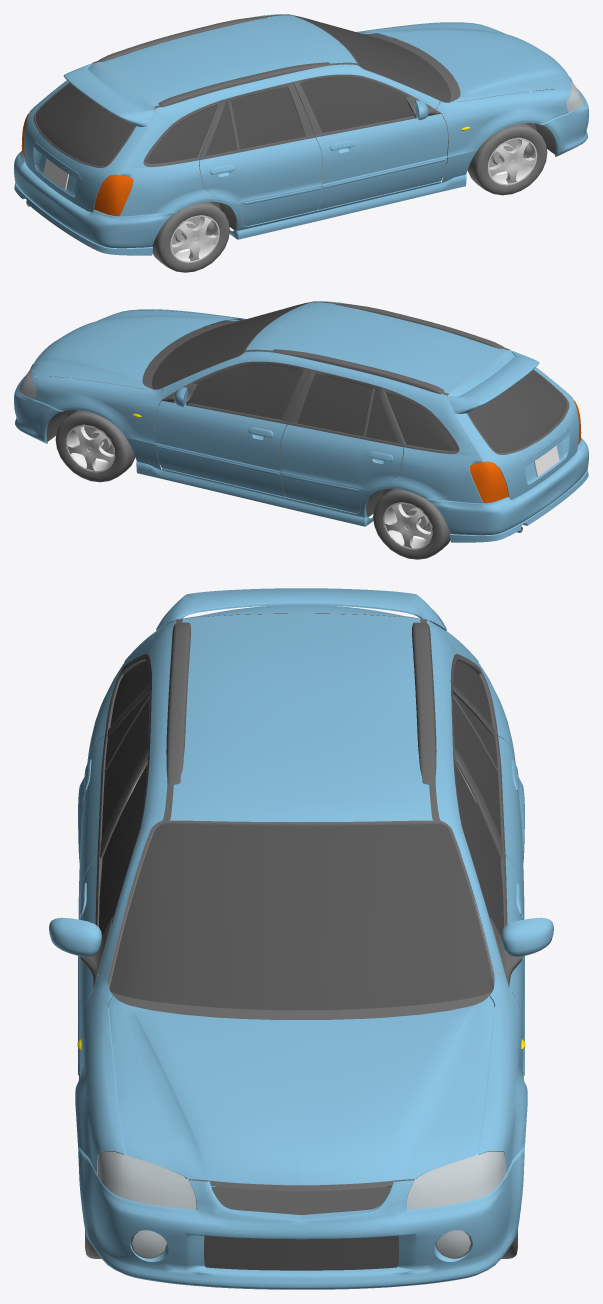
The model's file is ego.gltf.
3 views of the same model, one above another, from view 1: azimuth 30°, elevation 25°; view 2: azimuth 150°, elevation 25°; view 3: azimuth 270°, elevation 25° (orthographic). The views are drawn at different scales.
Parts seen in each view (by area): view 1: wing; view 2: wing; view 3: wing.
Part boxes in pixels (bbox=[...]): wing: bbox=[14, 14, 588, 272]; wing: bbox=[14, 301, 588, 559]; wing: bbox=[49, 588, 553, 1289].
Bounding box in the file's own units: 4.93 × 1.48 × 2.11.
